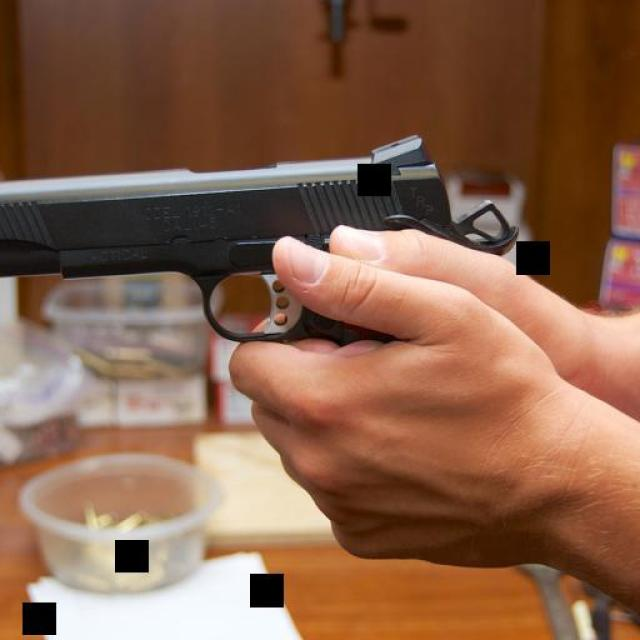gun: (0, 134, 526, 358)
